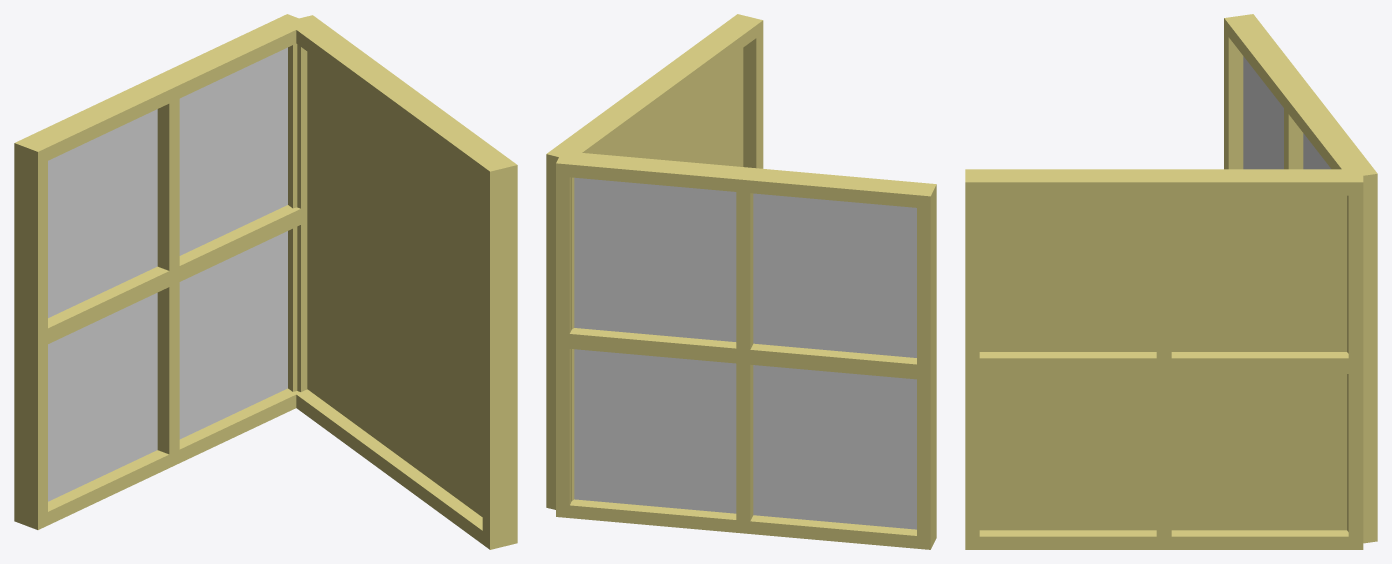
The model's file is pencere.fbx.
3 views of the same model, side by side, from view 1: azimuth 30°, elevation 25°; view 2: azimuth 150°, elevation 25°; view 3: azimuth 270°, elevation 25° (orthographic). The views are drawn at different scales.
Parts seen in each view (by area): view 1: Cube.019; view 2: Cube.019; view 3: Cube.019.
Part boxes in pixels (x1,y1,x2,y2): Cube.019: [14, 14, 517, 549]; Cube.019: [546, 14, 936, 549]; Cube.019: [965, 14, 1377, 549].
Bounding box in the file's own units: 121 × 124 × 126.
